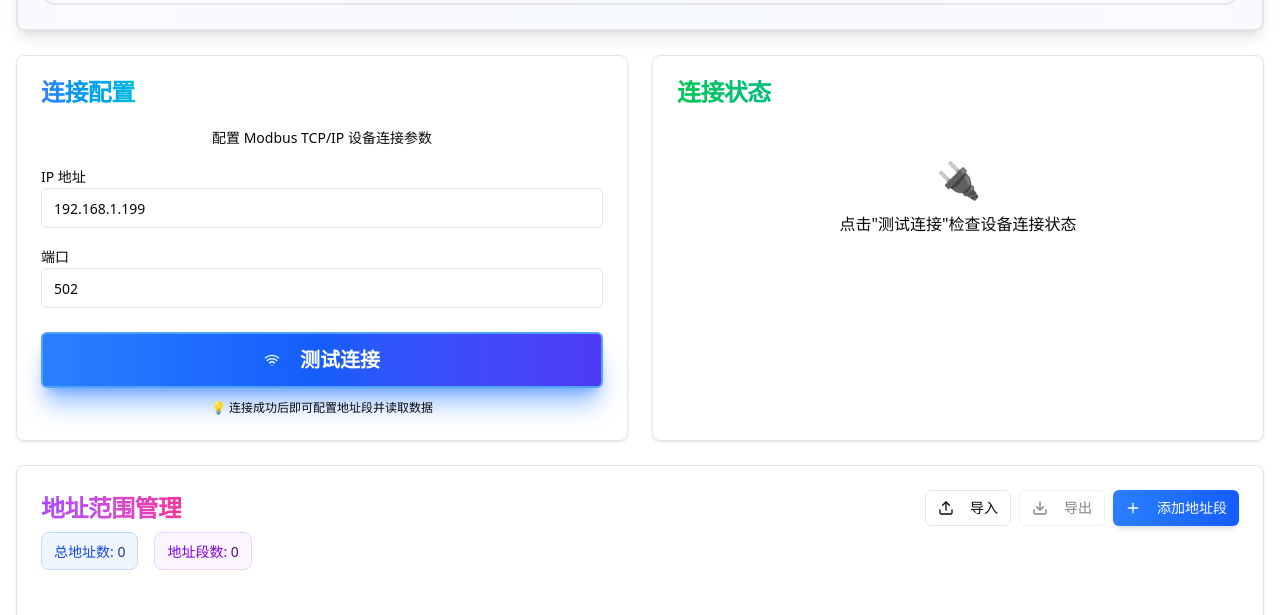
Test: App Component › 应该在加载状态时禁用重复的连接测试
(page scrolled)
Click the button "测试连接".
click(322, 360)  # box [41,332,603,388]
(page scrolled)
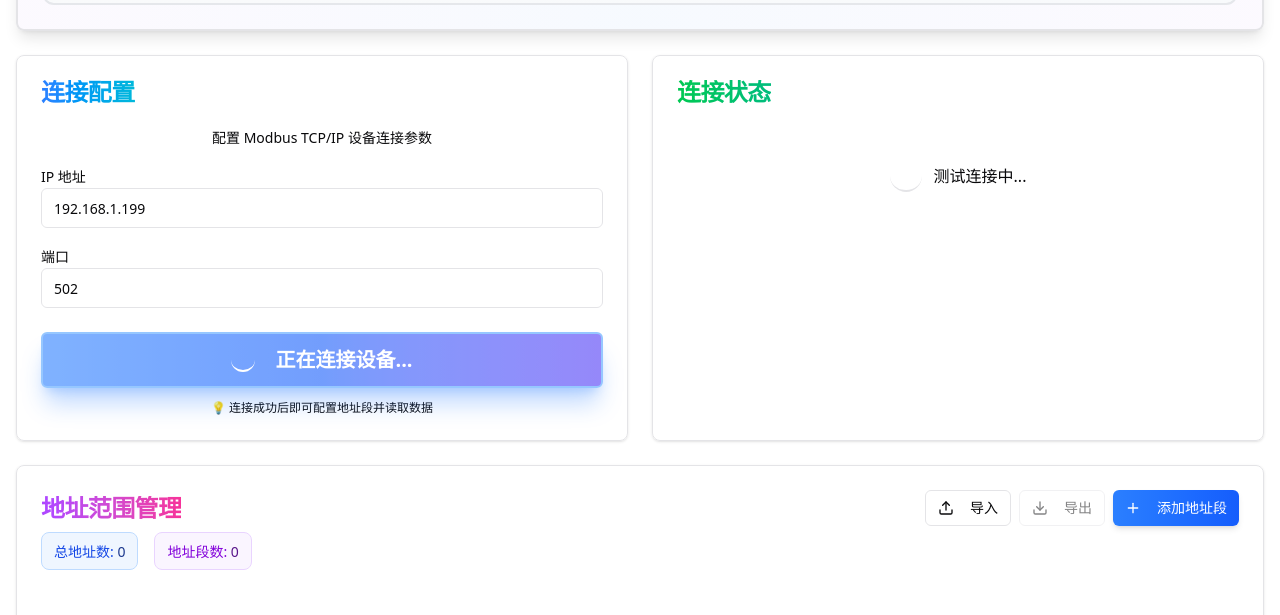
Now the text "测试连接中..." is shown, box [934,164,1026,188]
// 立即再次点击不应该触发新的调用
Click the button "测试连接".
click(322, 360)  # box [41,332,603,388]
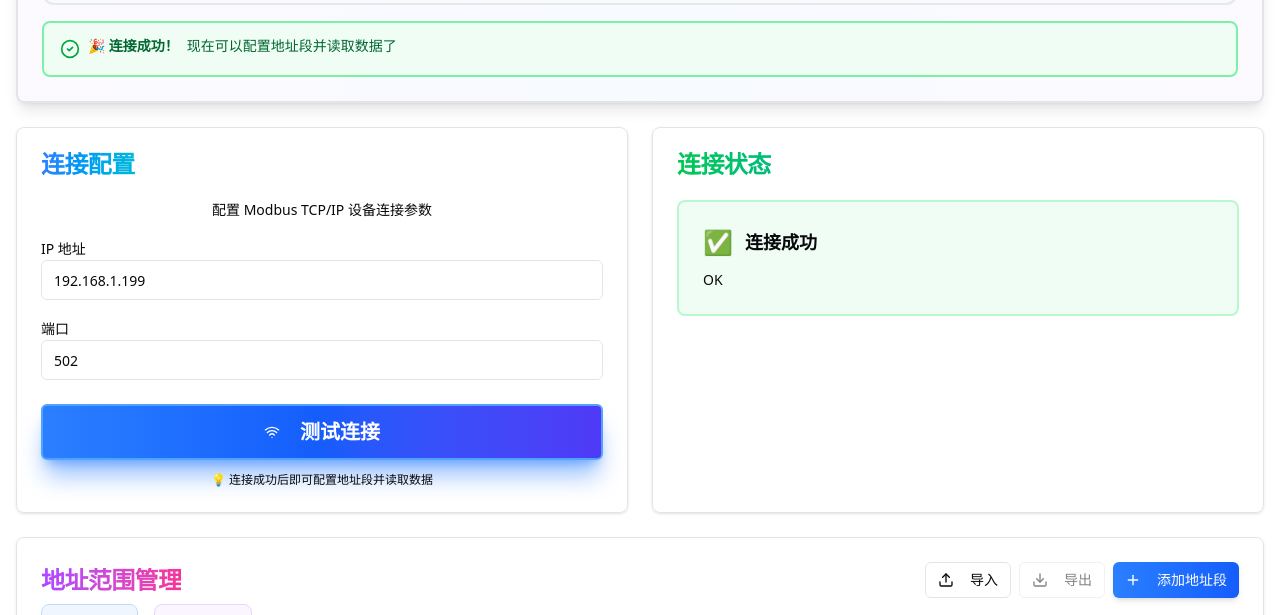
Now the text "测试连接中..." is gone
